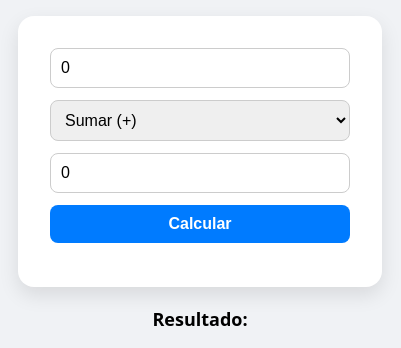
Test: Calculadora UI - Pruebas Funcionales › TC-F03: Si los inputs están vacíos, no debe mostrarse ningún resultado
What coordinates should you click on to do the following:
click the button "Calcular"
I would click on:
 (200, 224)
Its box is left=50, top=205, right=350, bottom=243.
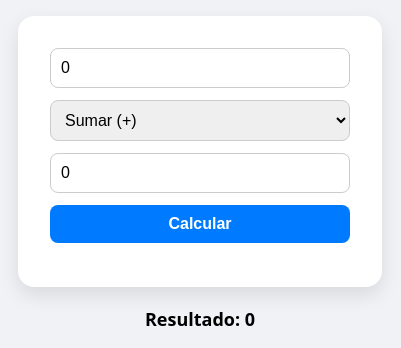
Expected: the text "Resultado: 0" is shown, left=145, top=307, right=255, bottom=331
